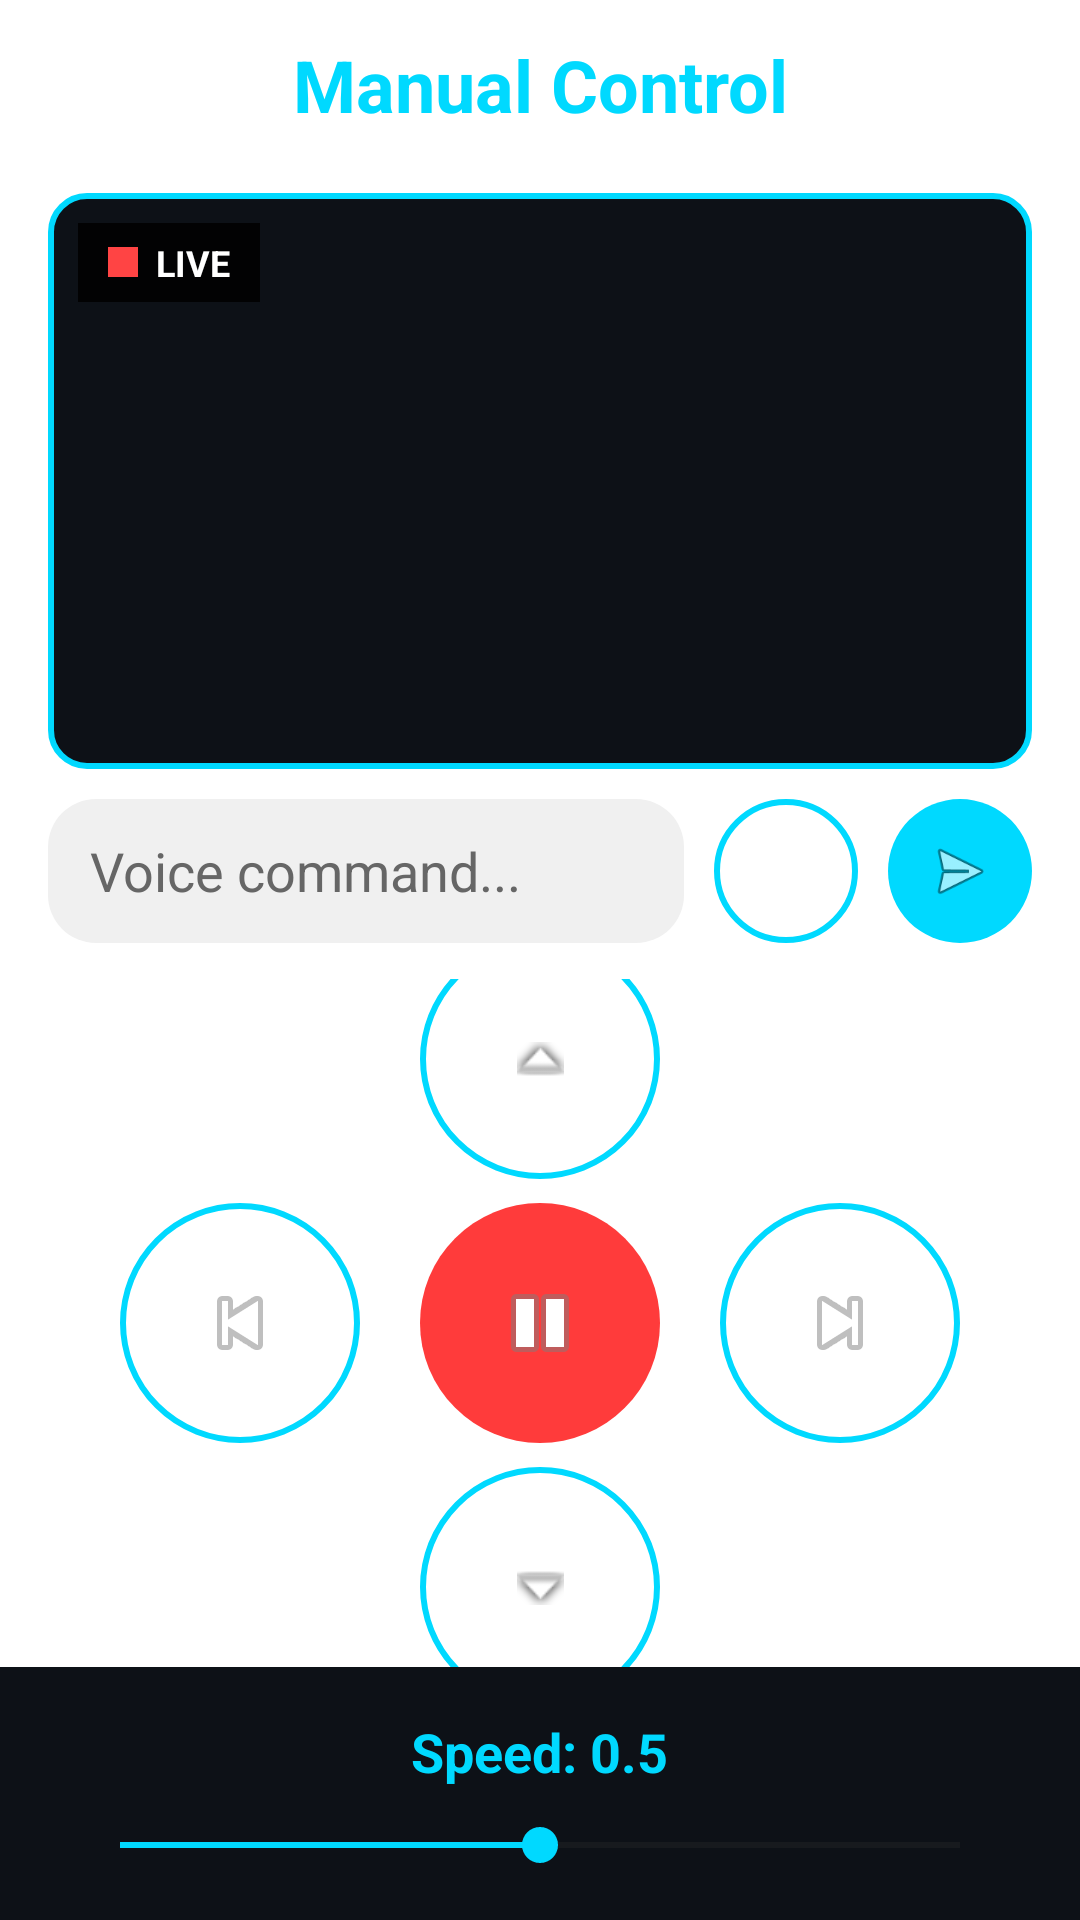

Where to tap for icons on this 1080x1920 app screen, as (x,y):
Left: (240,1323)
Right: (840,1323)
Send: (960,871)
Stop: (540,1323)
